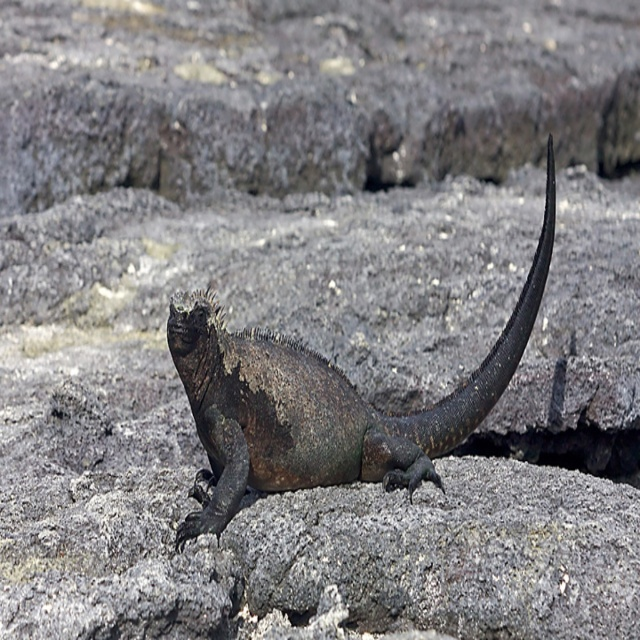Lizard: (171, 152, 570, 543)
